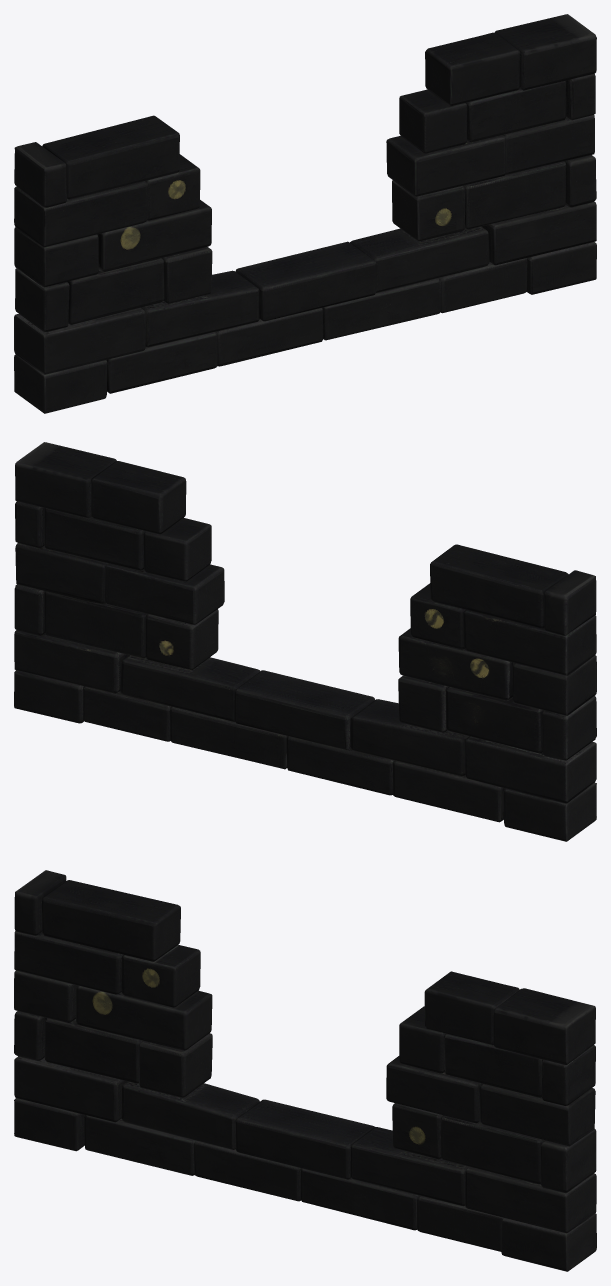
The model's file is modular-wall.glb.
3 views of the same model, one above another, from view 1: azimuth 30°, elevation 25°; view 2: azimuth 150°, elevation 25°; view 3: azimuth 330°, elevation 25° (orthographic).
Size of the model in its own units: 1 by 0.4281 by 0.0996.
Materials: 1 (1 with a texture image).
